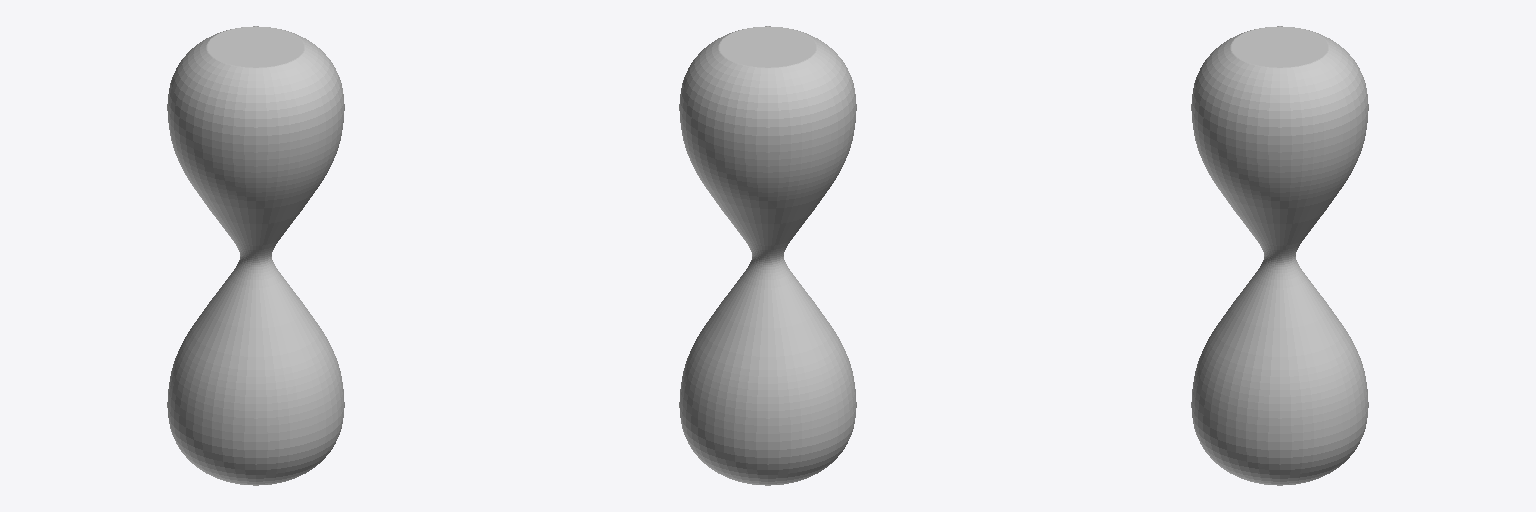
The model's file is hourglas.obj.
3 renders of one model, left to right at view 1: azimuth 30°, elevation 25°; view 2: azimuth 150°, elevation 25°; view 3: azimuth 270°, elevation 25°, orthographic.
Visible parts, largest first — view 1: Hay_Time_L_mat(2); view 2: Hay_Time_L_mat(2); view 3: Hay_Time_L_mat(2).
Part boxes in pixels (x1,y1,x2,y2): Hay_Time_L_mat(2): (167,26,344,485); Hay_Time_L_mat(2): (679,26,856,485); Hay_Time_L_mat(2): (1191,26,1368,485).
Size of the model in its own units: 7.5 by 19.5 by 7.5.